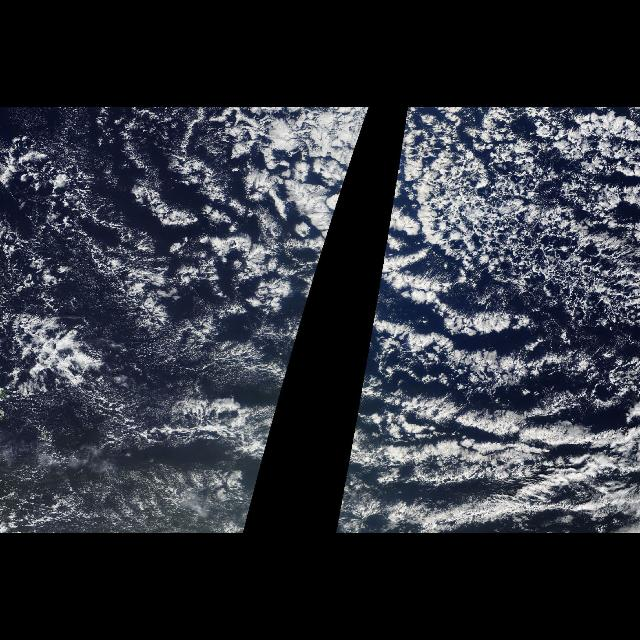Fish: (14, 250, 324, 532), (332, 250, 636, 532)
Gravel: (417, 110, 639, 330)
Sugar: (6, 402, 204, 530)
